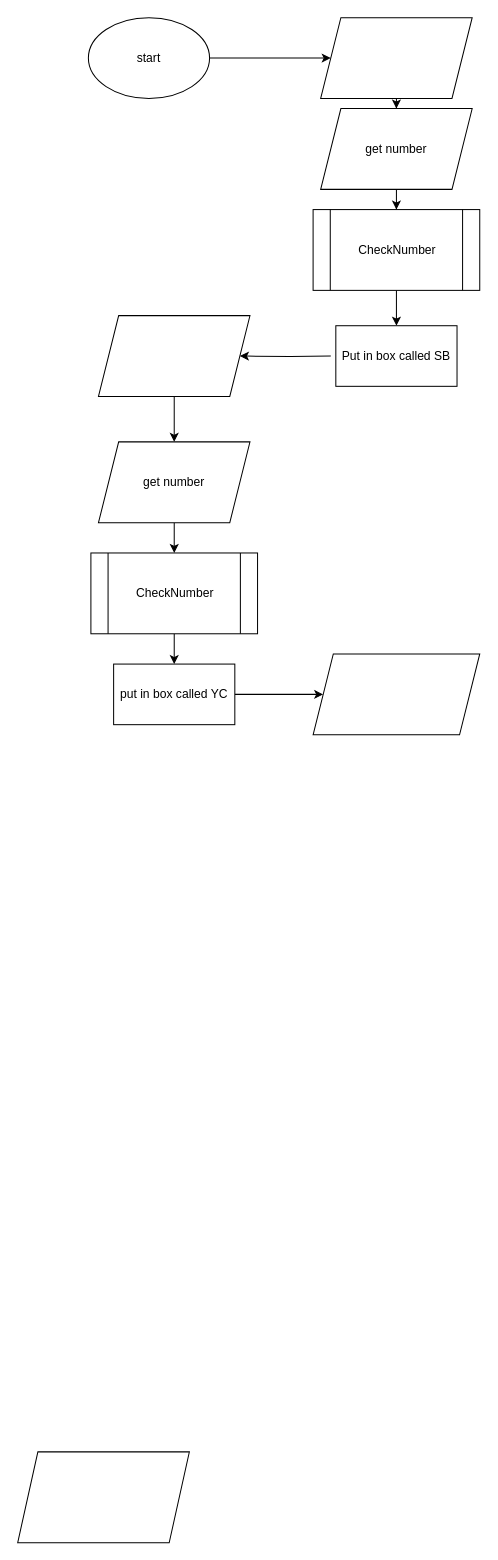
This 498x1560 diagram has some shape labels left out. Here are the shapes that lost their labels. From the top down, the centre of each, then its label:
point (396, 57): Display: "Enter starting balance in dollars"
point (173, 355): Display "Enter yearly contribution in dollars"
point (396, 694): Display: "Enter Average Return on Investment"
point (103, 1497): Display: "Enter Number of Years for the Report
